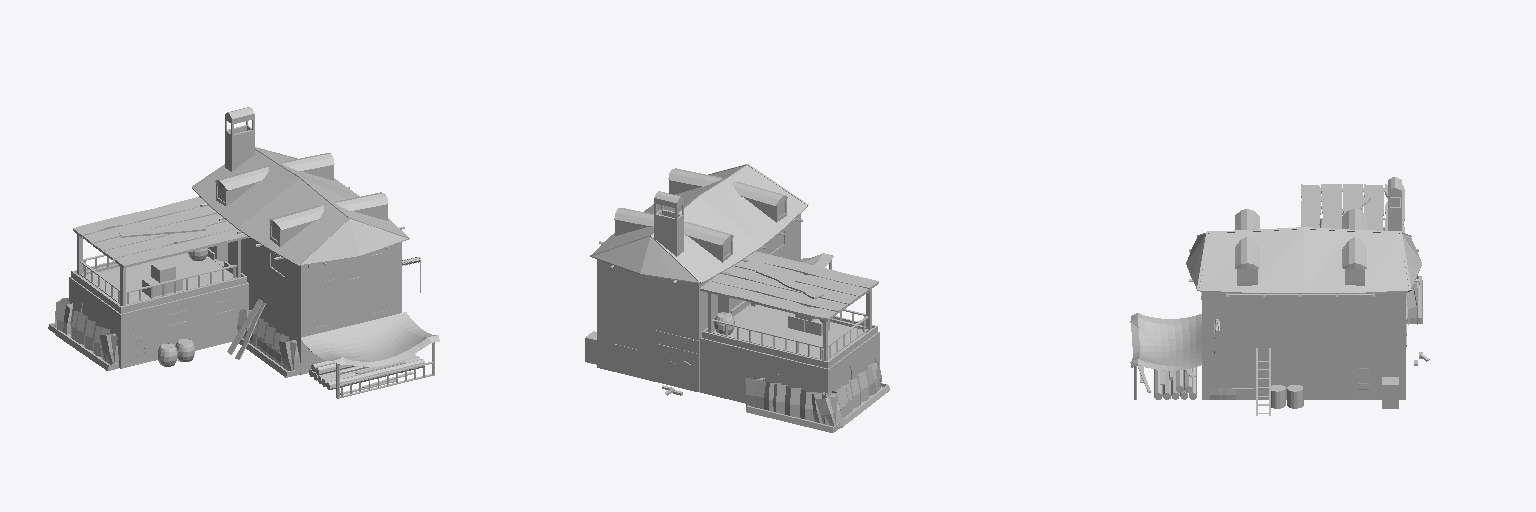
Rendered from Old House 2 3D Models.obj.
The picture shows the model from 3 angles: view 1: azimuth 30°, elevation 25°; view 2: azimuth 150°, elevation 25°; view 3: azimuth 270°, elevation 25°; orthographic projection.
Visible parts, largest first — view 1: _Old_House, Plants_1_3; view 2: _Old_House, Plants_1_3; view 3: _Old_House.
Boxes of the visible parts, box(x1,y1,x2,y2) form: _Old_House: box(48, 107, 439, 398); Plants_1_3: box(55, 298, 303, 373); _Old_House: box(585, 164, 889, 432); Plants_1_3: box(745, 358, 881, 426); _Old_House: box(1130, 177, 1429, 415).
Bounding box in the file's own units: 3.9 × 2.52 × 3.63.